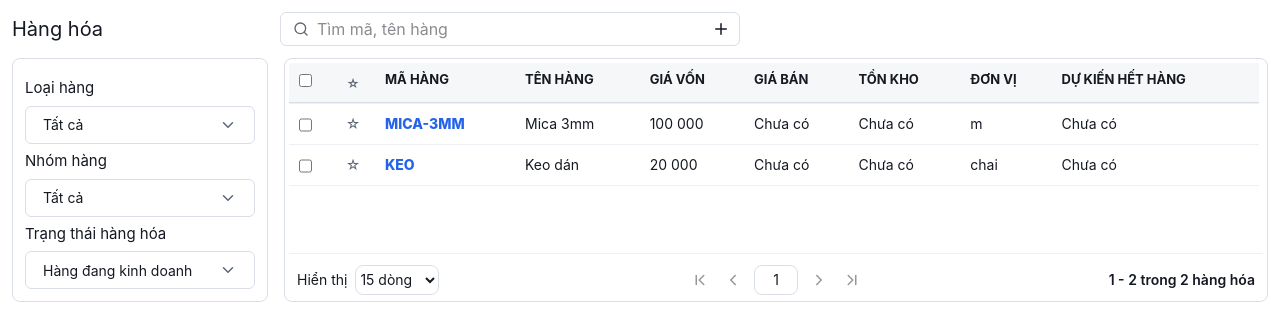
Test: persists product favorite marks and filters the current product page by favorites
The image size is (1280, 319).
Click the button named "Đánh dấu ưu tiên MICA-3MM" at {"x": 353, "y": 124}, box [341, 112, 365, 136]
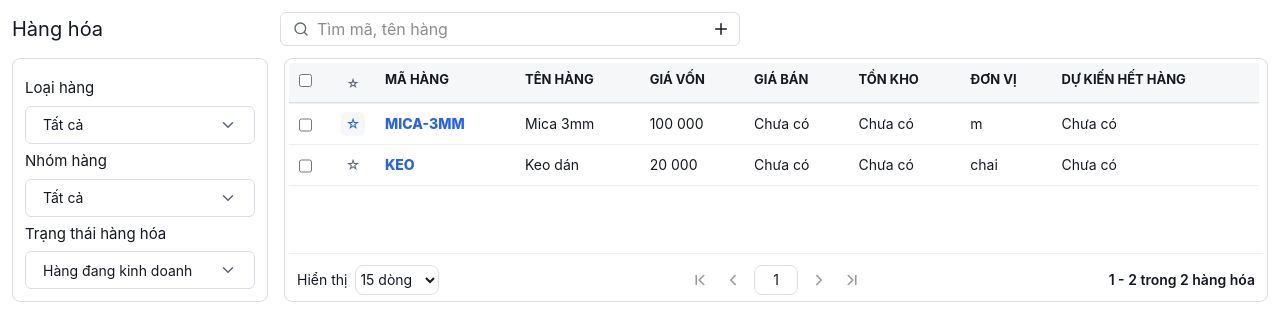
Click the button named "Chỉ hiện hàng ưu tiên" at {"x": 353, "y": 83}, box [341, 71, 365, 95]
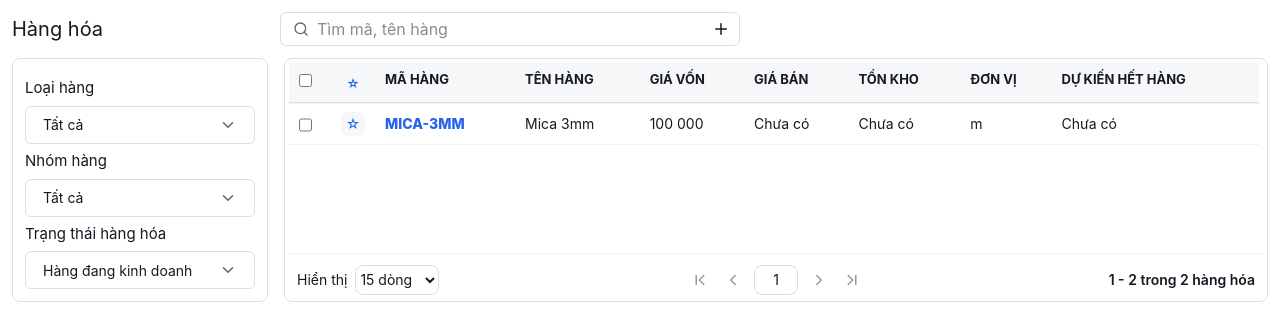
Expected: the text "MICA-3MM" is shown, [385, 114, 465, 133]
Expected: the button "KEO" is gone
